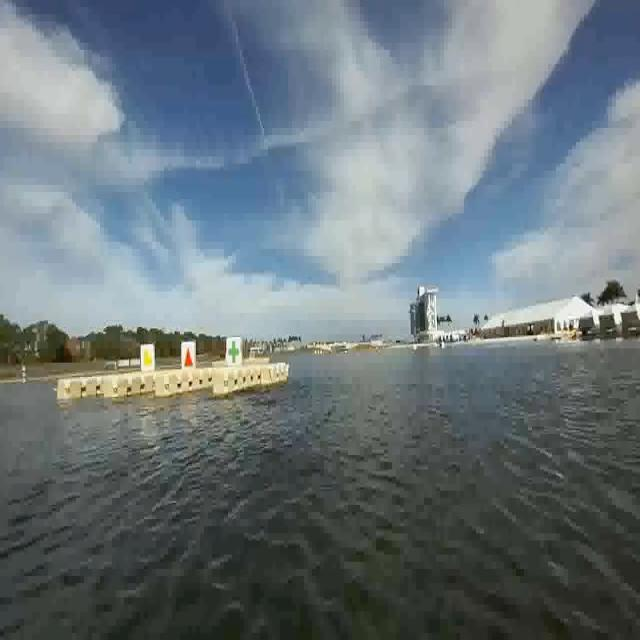blue-cross: (226, 336, 241, 366)
red-dot: (182, 341, 196, 371)
yellow-duck: (139, 343, 154, 371)
